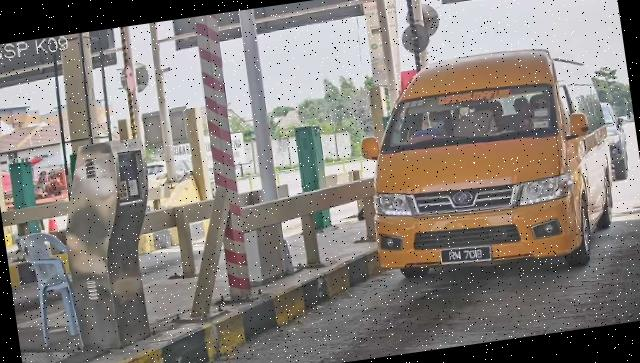License_Plate: (439, 243, 494, 271)
van: (353, 39, 627, 297)
